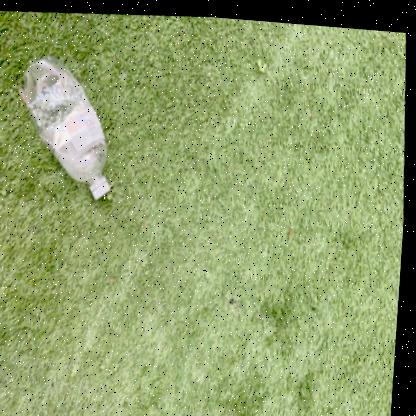Plastic: (17, 54, 111, 197)
